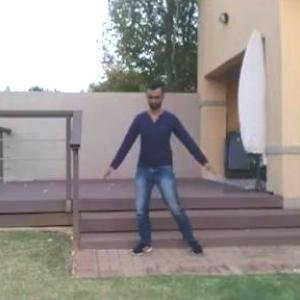land: (114, 82, 224, 262)
